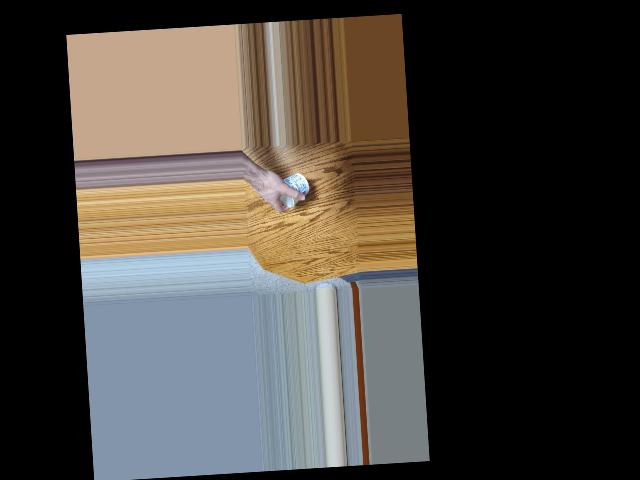cotage: (272, 169, 307, 208)
